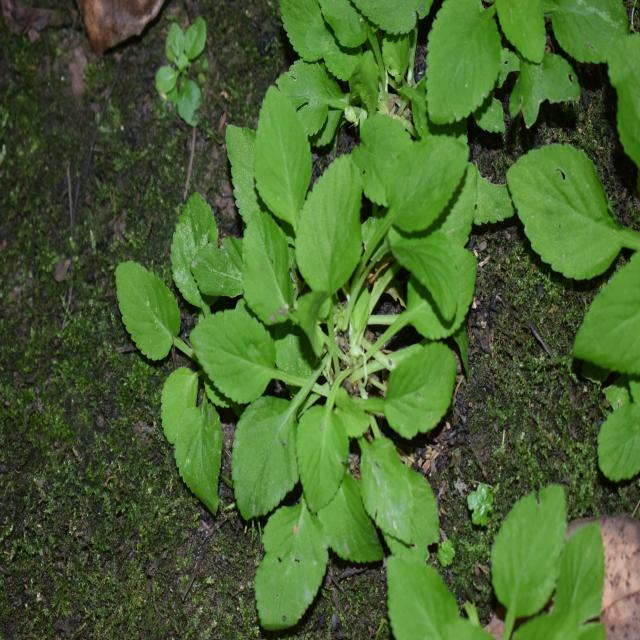Viola: (150, 107, 462, 563)
